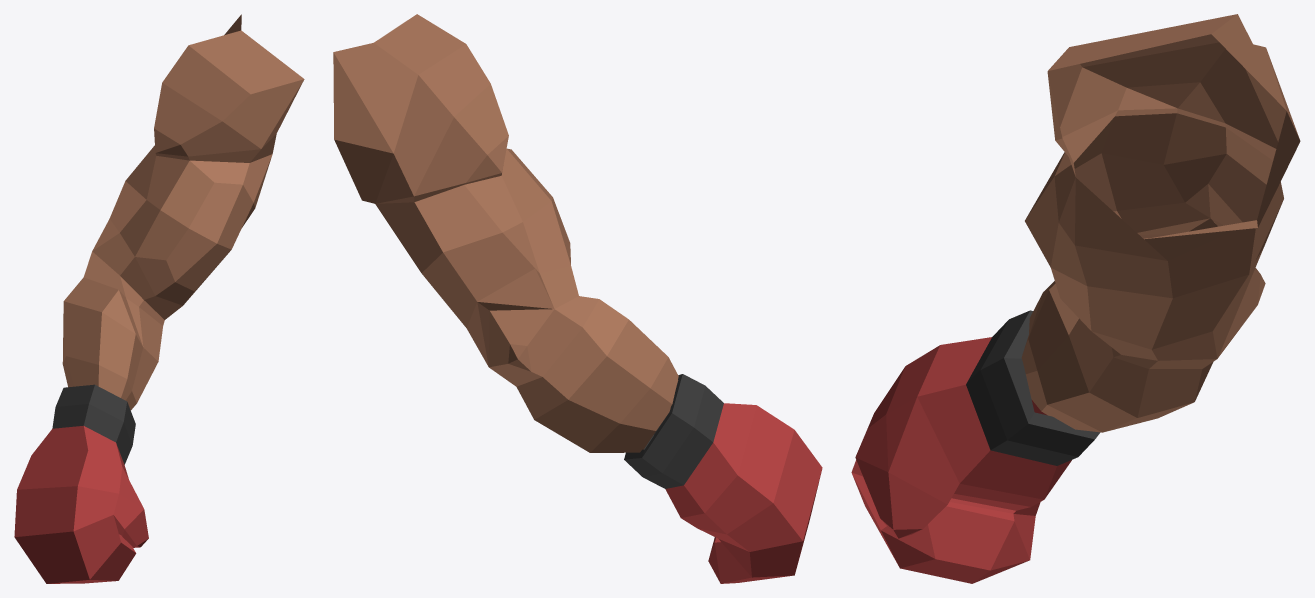
The model's file is brazo solo.FBX.
The picture shows the model from 3 angles, left to right: view 1: azimuth 30°, elevation 25°; view 2: azimuth 150°, elevation 25°; view 3: azimuth 270°, elevation 25°; orthographic projection. The views are drawn at different scales.
Visible parts, largest first — view 1: brazo; view 2: brazo; view 3: brazo.
Part boxes in pixels (x1=…): brazo: x1=14, y1=14, x2=304, y2=583; brazo: x1=333, y1=14, x2=822, y2=583; brazo: x1=851, y1=14, x2=1300, y2=583.
Bounding box in the file's own units: 21.39 × 16.32 × 29.48.
